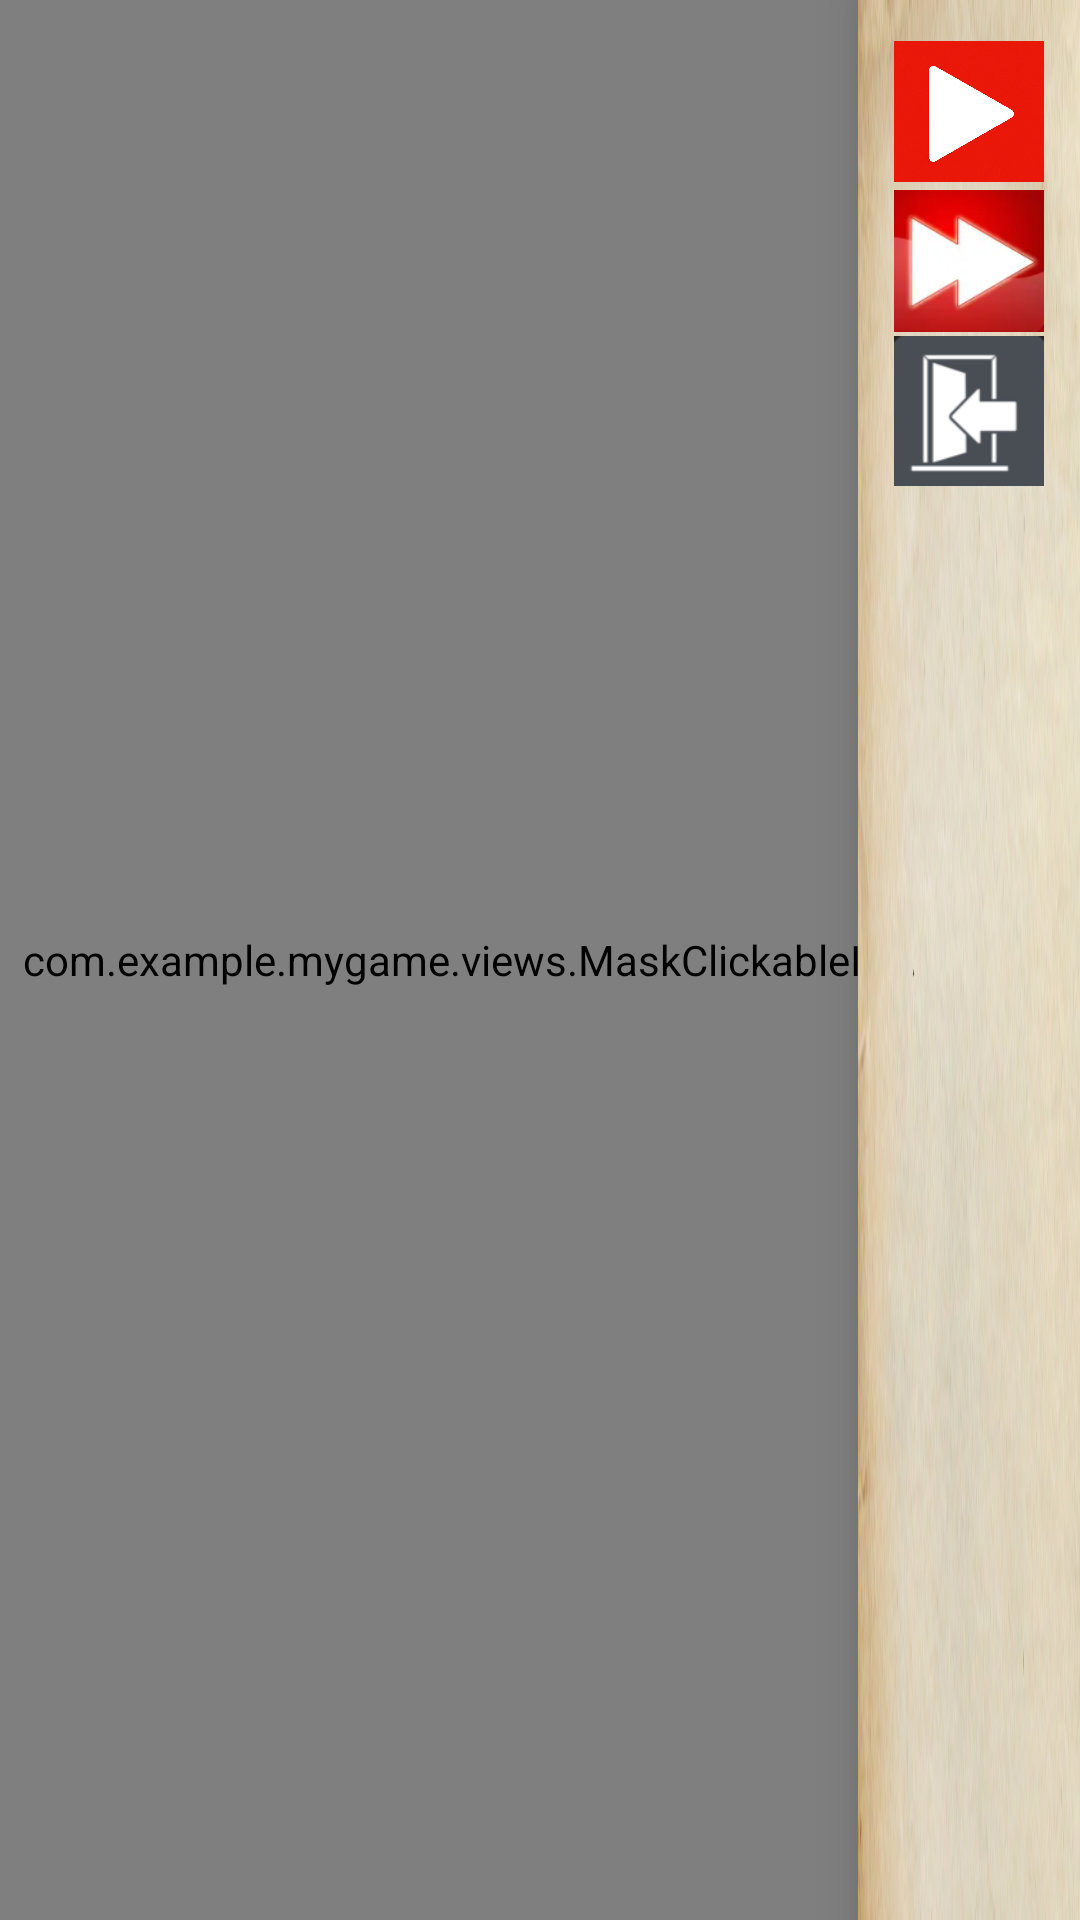

Icon click points for this 1080*1920 phone screenshot, format (x,y):
End turn: (969,111)
Return to main menu: (969,411)
Skip several turns: (969,261)
